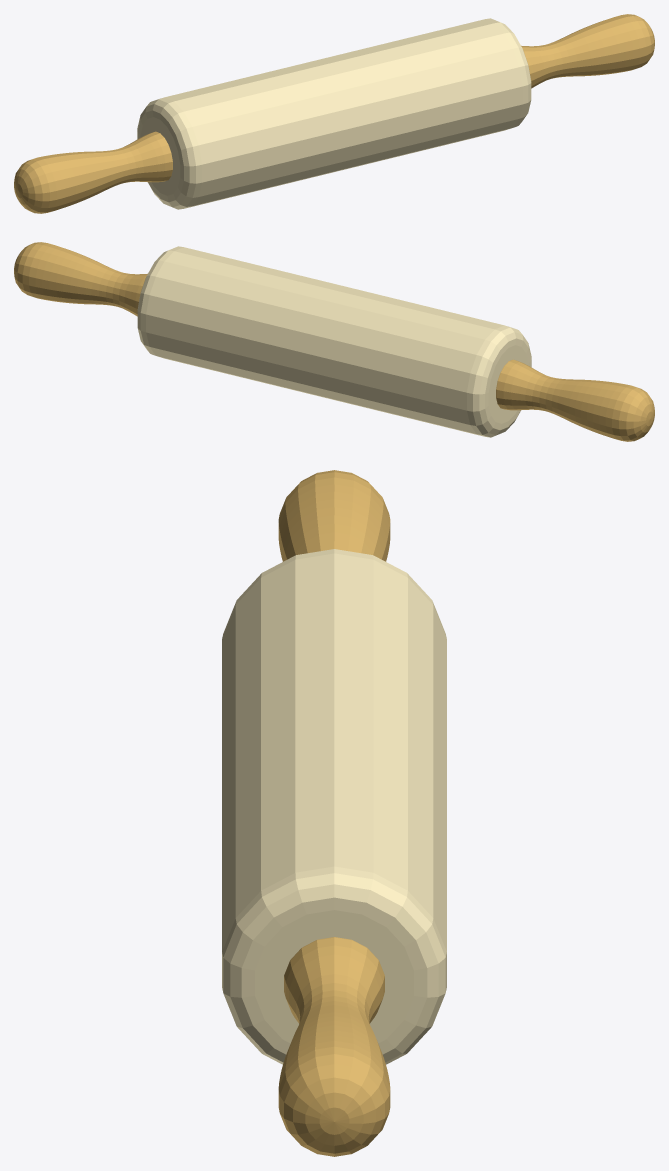
The model's file is deegroller.dae.
3 views of the same model, one above another, from view 1: azimuth 30°, elevation 25°; view 2: azimuth 150°, elevation 25°; view 3: azimuth 270°, elevation 25° (orthographic). The views are drawn at different scales.
Parts seen in each view (by area): view 1: Lathe, Handle_1, Handle; view 2: Lathe, Handle_1, Handle; view 3: Lathe, Handle, Handle_1.
Part boxes in pixels (box(x1,y1,x2,y2)): Lathe: box(137, 18, 531, 209); Handle_1: box(14, 131, 172, 213); Handle: box(521, 14, 654, 88); Lathe: box(137, 246, 531, 437); Handle_1: box(496, 359, 654, 441); Handle: box(14, 242, 147, 316); Lathe: box(222, 549, 446, 1064); Handle: box(278, 937, 390, 1156); Handle_1: box(278, 470, 390, 561).
Bounding box in the file's own units: 5.46 × 0.8418 × 0.8548.
